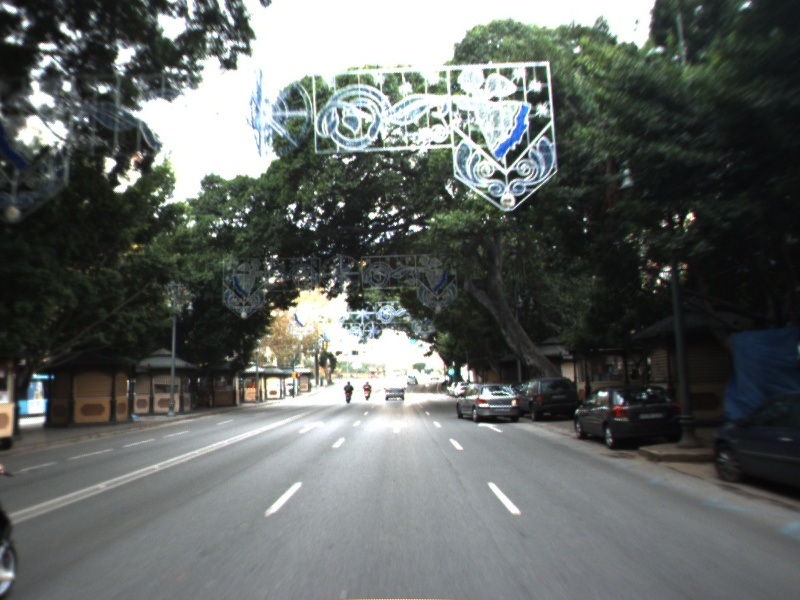STRAIGHT: (296, 419, 328, 435), (475, 420, 506, 434)
